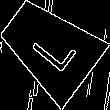L_NW: (21, 20, 77, 75)
